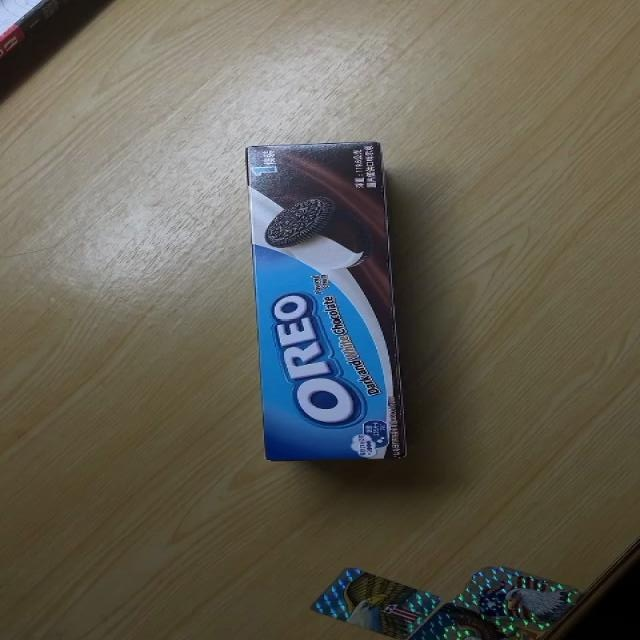Oreo: (242, 140, 402, 466)
